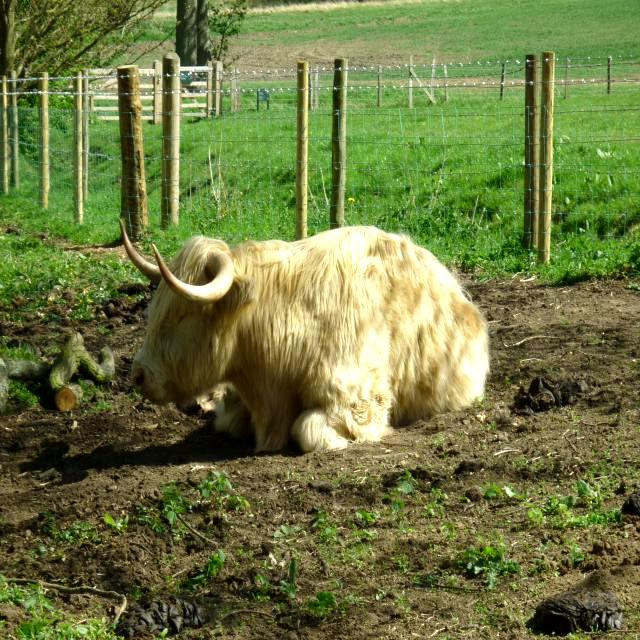COW: (120, 220, 489, 452)
